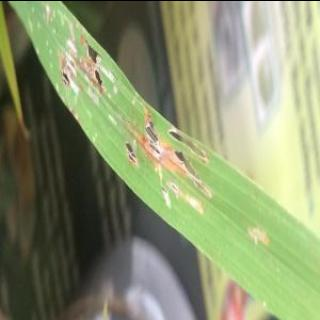Blast: (122, 126, 228, 204)
